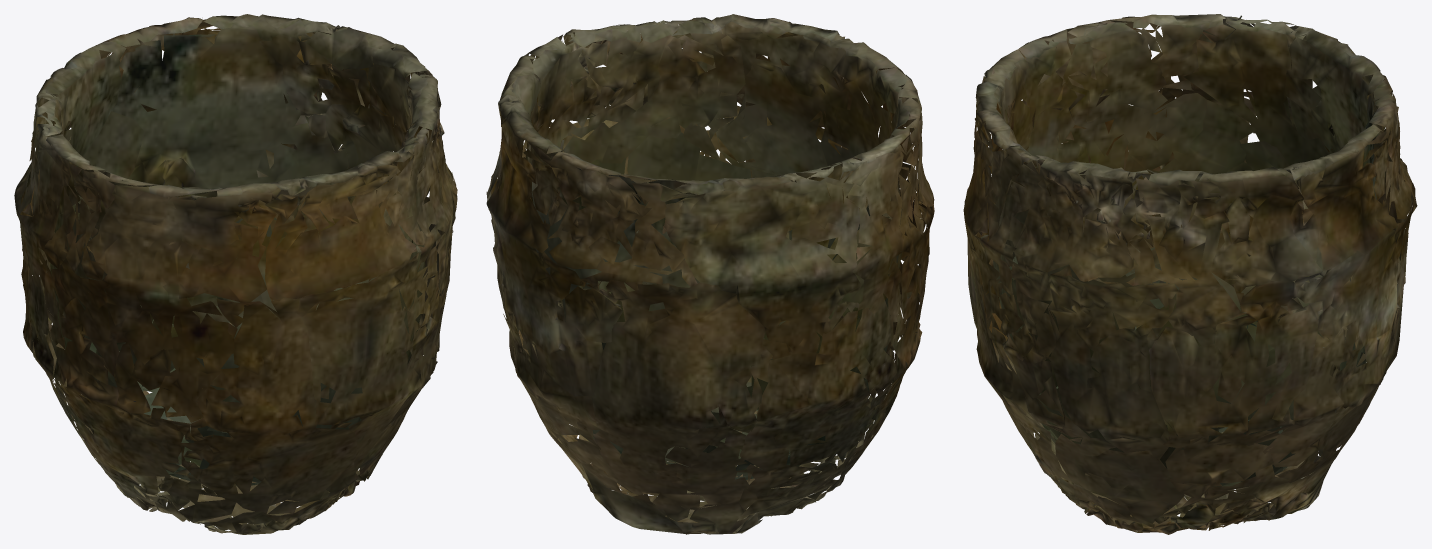
The model's file is hm-tripartite-bowl-food-vessel.glb.
3 views of the same model, side by side, from view 1: azimuth 30°, elevation 25°; view 2: azimuth 150°, elevation 25°; view 3: azimuth 270°, elevation 25° (orthographic). The views are drawn at different scales.
Parts seen in each view (by area): view 1: Object_2, Object_5, Object_3, Object_4, Object_6; view 2: Object_2, Object_4, Object_3, Object_5, Object_6; view 3: Object_3, Object_4, Object_5, Object_2, Object_6, Object_7.
Boxes of the visible parts, x1=… form: Object_2: x1=14, y1=14, x2=438, y2=523; Object_5: x1=40, y1=16, x2=457, y2=531; Object_3: x1=18, y1=25, x2=435, y2=534; Object_4: x1=22, y1=17, x2=457, y2=534; Object_6: x1=46, y1=27, x2=457, y2=524; Object_2: x1=486, y1=94, x2=910, y2=534; Object_4: x1=511, y1=32, x2=933, y2=534; Object_3: x1=486, y1=34, x2=903, y2=521; Object_5: x1=532, y1=21, x2=934, y2=533; Object_6: x1=549, y1=14, x2=931, y2=523; Object_3: x1=964, y1=16, x2=1411, y2=507; Object_4: x1=980, y1=14, x2=1411, y2=530; Object_5: x1=974, y1=23, x2=1417, y2=534; Object_2: x1=963, y1=19, x2=1415, y2=483; Object_6: x1=974, y1=16, x2=1416, y2=532; Object_7: x1=1064, y1=22, x2=1257, y2=522.
Bounding box in the file's own units: 0.1561 × 0.1536 × 0.1557.
Materials: 1 (1 with a texture image).
